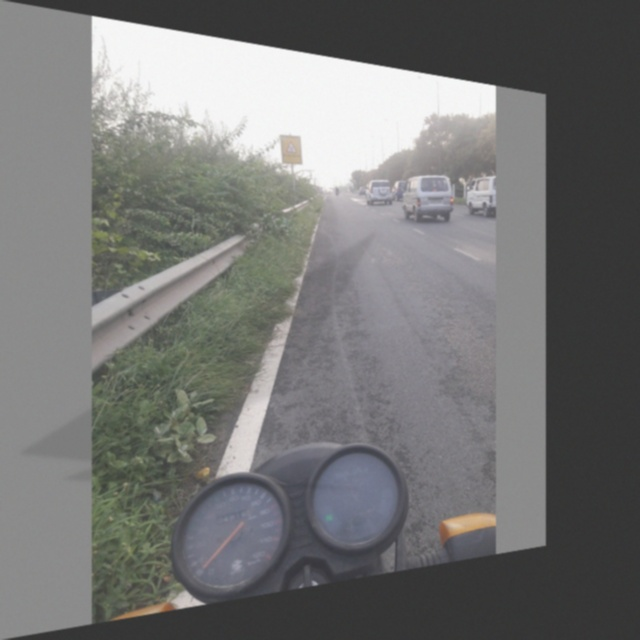Narrow_Bridge: (280, 135, 301, 161)
